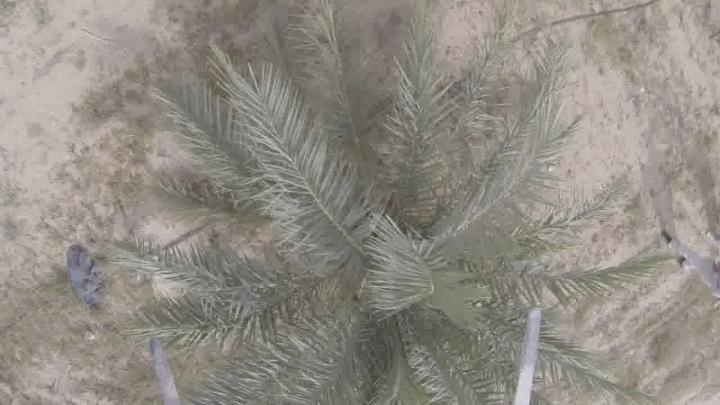Date-Palm-Crown: (238, 135, 532, 405)
